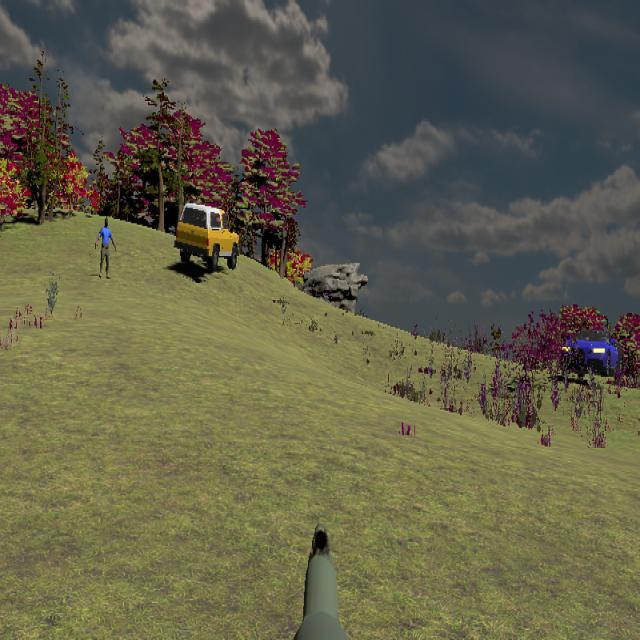Human: (95, 218, 116, 279)
car: (175, 203, 240, 272), (560, 328, 621, 378)
